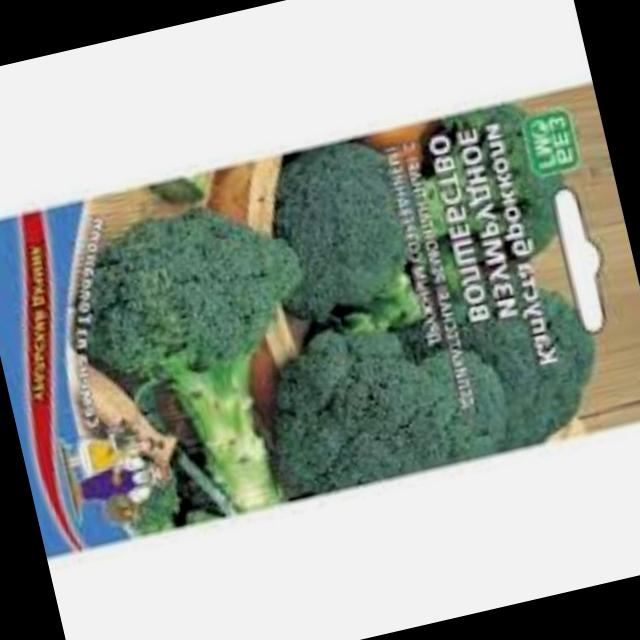Broccoli: (55, 156, 341, 460), (386, 224, 640, 472), (286, 306, 522, 524), (242, 110, 449, 330), (390, 71, 595, 278)
